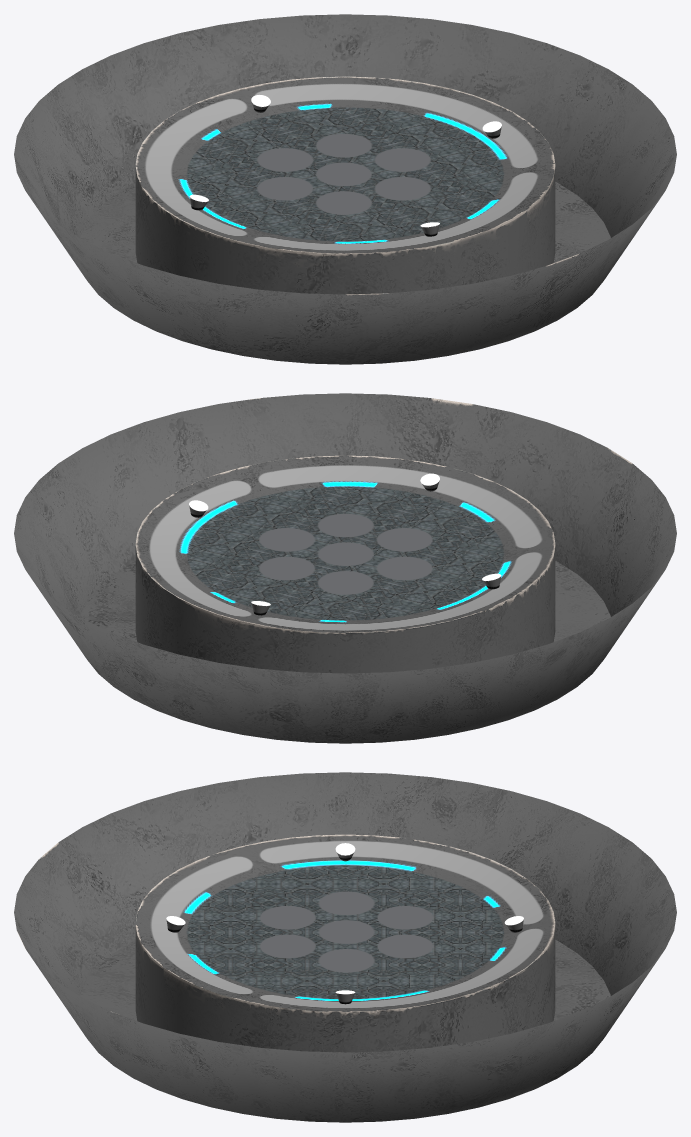
File: stonearea.fbx
3 renders of one model, top to bottom at view 1: azimuth 30°, elevation 25°; view 2: azimuth 150°, elevation 25°; view 3: azimuth 270°, elevation 25°, orthographic.
Visible parts, largest first — view 1: Ground, Lights_group2_pCylinder2; view 2: Ground, Lights_group2_pCylinder2; view 3: Ground, Lights_group2_pCylinder2.
Part boxes in pixels (x1,y1,x2,y2): Ground: [14, 14, 676, 364]; Lights_group2_pCylinder2: [189, 95, 501, 236]; Ground: [14, 393, 676, 743]; Lights_group2_pCylinder2: [189, 473, 501, 615]; Ground: [14, 772, 676, 1122]; Lights_group2_pCylinder2: [166, 843, 523, 1004].
Size of the model in its own units: 51.85 by 8.39 by 51.85.
